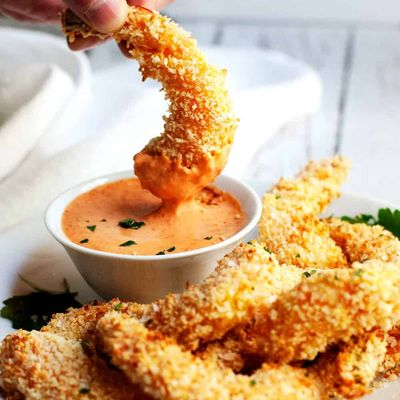sushi: (45, 171, 262, 304)
